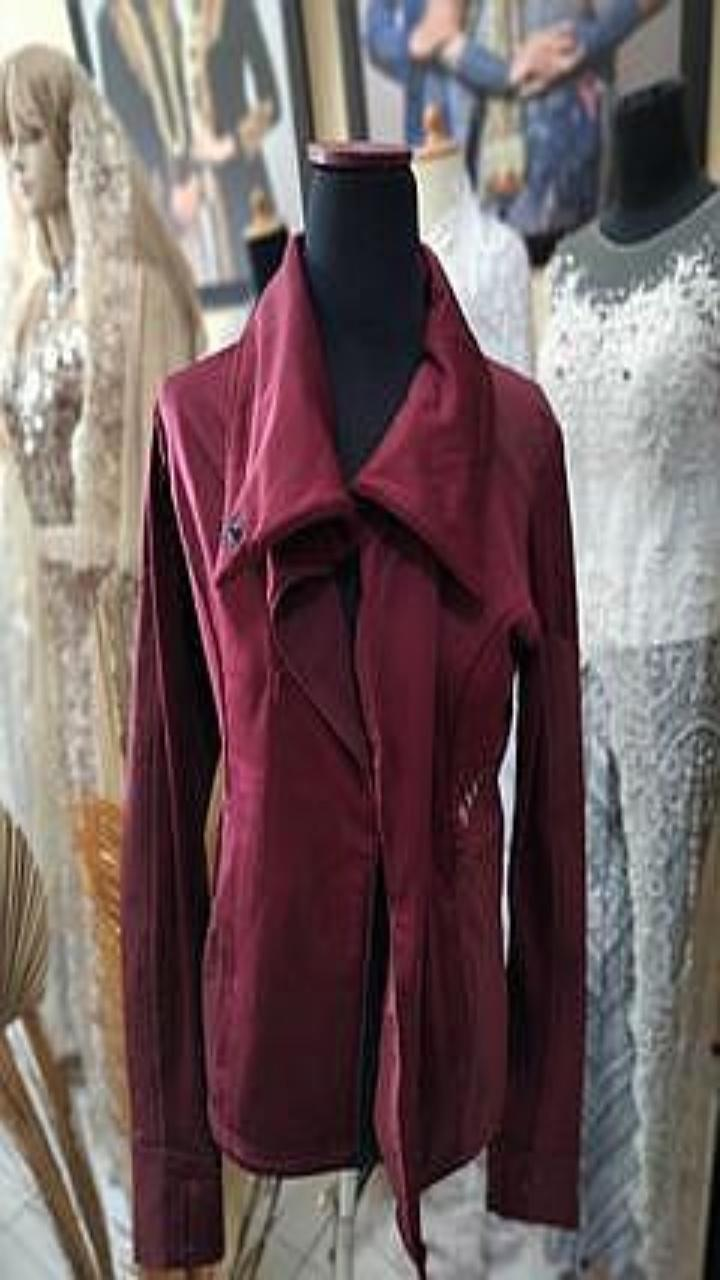Coat: (122, 240, 583, 1274)
Dresses: (540, 195, 719, 1279), (423, 174, 532, 372)
